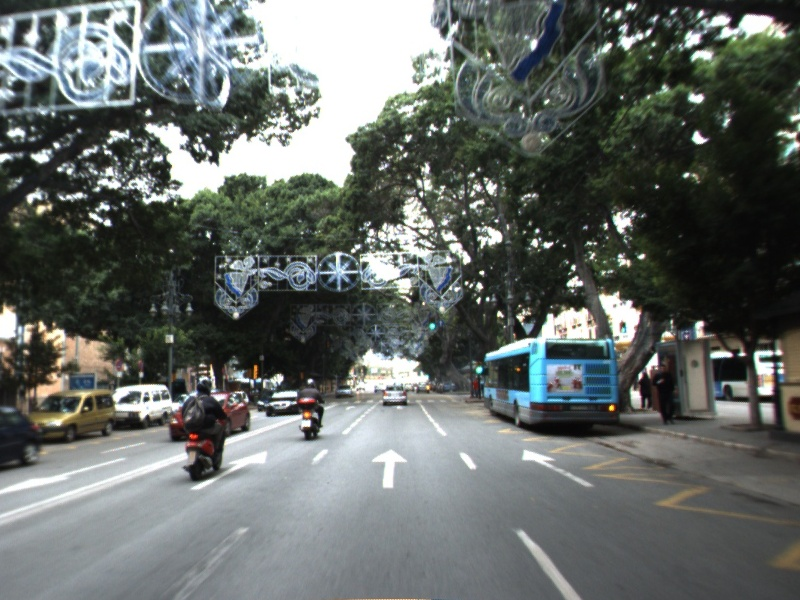STRAIGHT: (189, 449, 269, 492), (519, 447, 598, 489), (370, 447, 410, 490)
